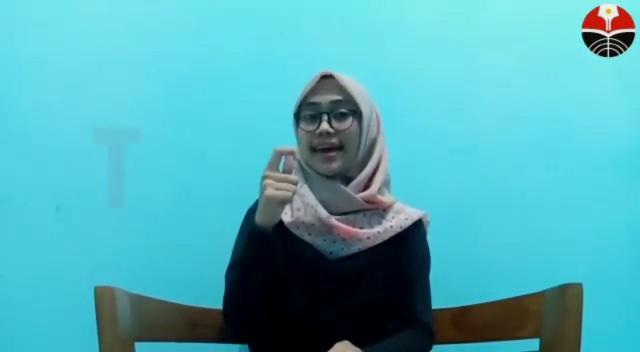T: (256, 145, 302, 207)
